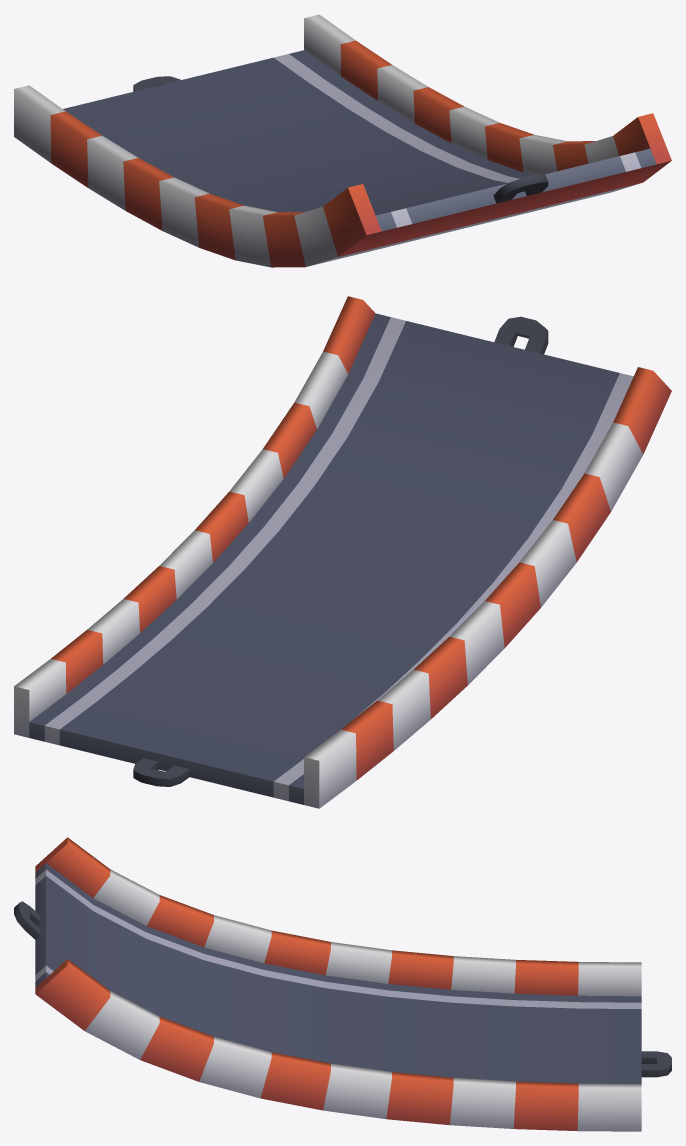
The model's file is track-road-wide-straight-hill-beginning.glb.
3 views of the same model, one above another, from view 1: azimuth 30°, elevation 25°; view 2: azimuth 150°, elevation 25°; view 3: azimuth 270°, elevation 25° (orthographic). The views are drawn at different scales.
Parts seen in each view (by area): view 1: track-road-wide-straight-hill-beginning; view 2: track-road-wide-straight-hill-beginning; view 3: track-road-wide-straight-hill-beginning.
Part boxes in pixels (<box>): track-road-wide-straight-hill-beginning: <box>14,14,671,267</box>; track-road-wide-straight-hill-beginning: <box>14,296,671,808</box>; track-road-wide-straight-hill-beginning: <box>14,837,671,1131</box>.
Bounding box in the file's own units: 2 × 1.21 × 4.34.
